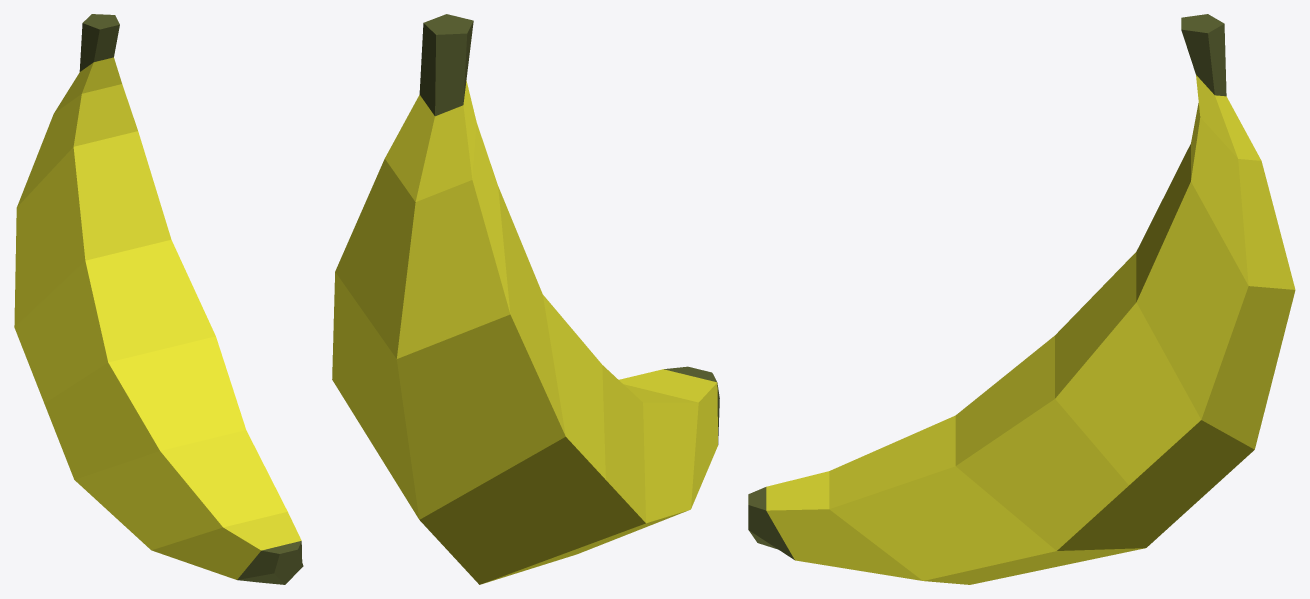
Rendered from item_banana.fbx.
The picture shows the model from 3 angles, left to right: view 1: azimuth 30°, elevation 25°; view 2: azimuth 150°, elevation 25°; view 3: azimuth 270°, elevation 25°; orthographic projection. The views are drawn at different scales.
Parts seen in each view (by area): view 1: Cylinder.003; view 2: Cylinder.003; view 3: Cylinder.003.
Part boxes in pixels (left/top/right/bottom): Cylinder.003: left=14, top=14, right=303, bottom=584; Cylinder.003: left=332, top=14, right=719, bottom=584; Cylinder.003: left=748, top=14, right=1295, bottom=584.
Bounding box in the file's own units: 95.11 × 242 × 214.
